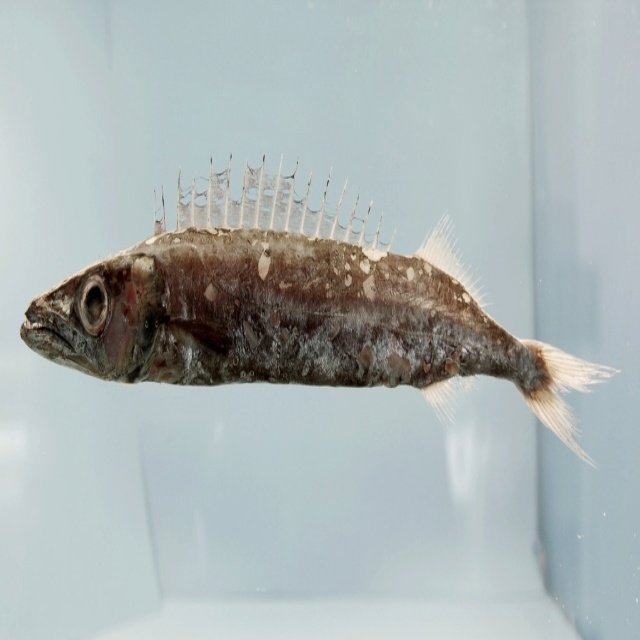Fish: (22, 135, 596, 452)
